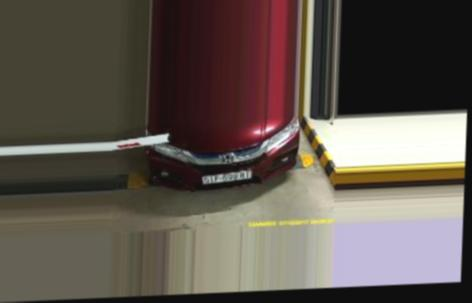License_Plate: (203, 168, 258, 186)
